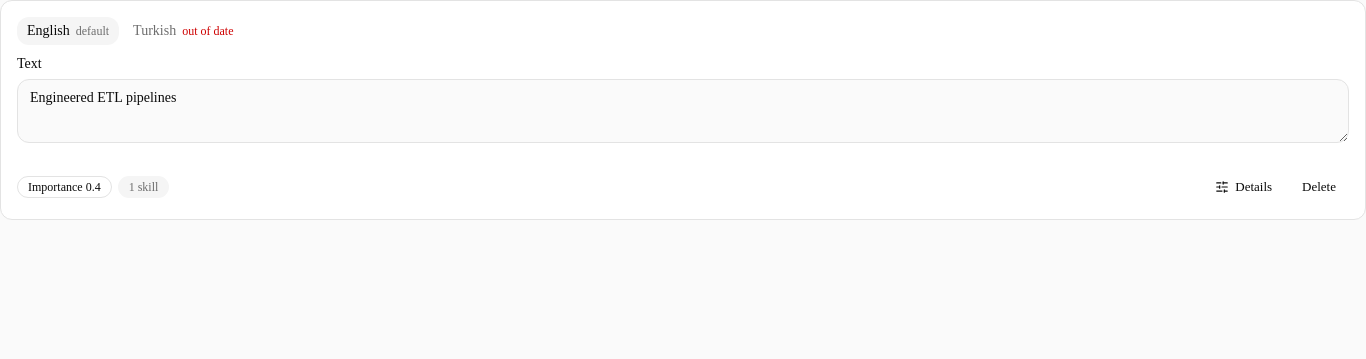
a wording whose source has moved on › becomes the other notice rather than disappearing
Click the tab "Turkish out of date".
click(183, 31)  # box [123,17,244,45]
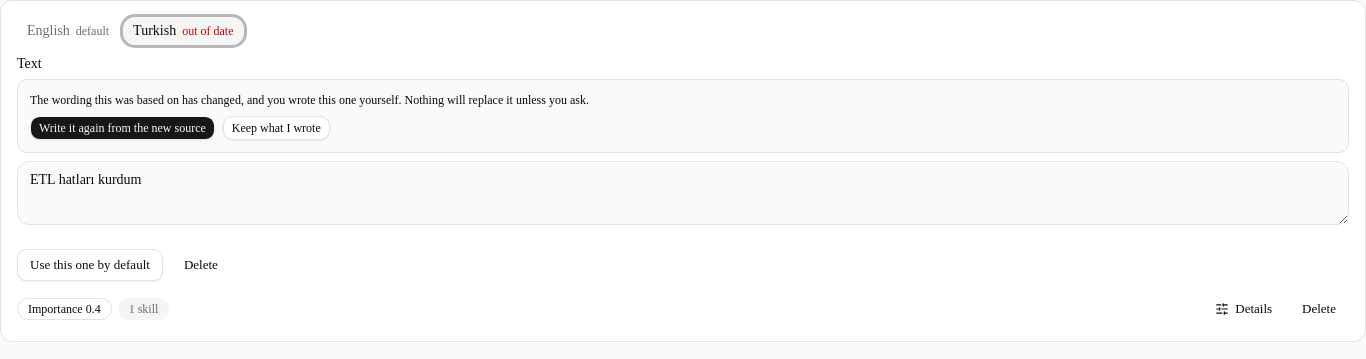
Click the button "Write it again from the new source".
click(122, 128)  # box [30,116,215,140]
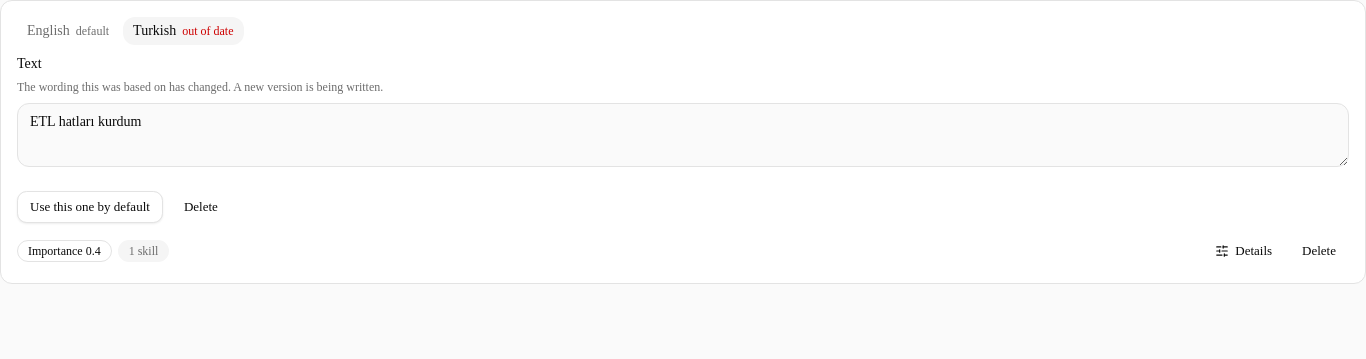
Expected: the message "The wording this was based on has changed. A new version is being written." is shown, [17,80,383,94]
Expected: the message with test id "stale-yours" is gone
